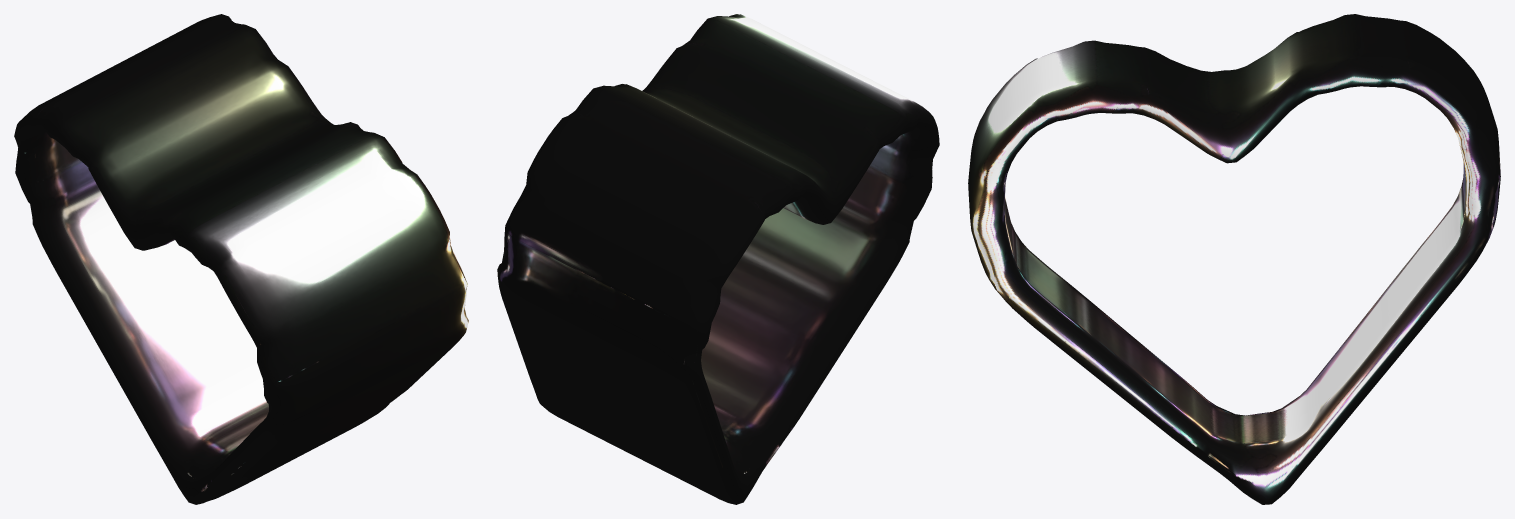
3 views of the same model, side by side, from view 1: azimuth 30°, elevation 25°; view 2: azimuth 150°, elevation 25°; view 3: azimuth 270°, elevation 25° (orthographic). The views are drawn at different scales.
Visible parts, largest first — view 1: Cube.002; view 2: Cube.002; view 3: Cube.002.
Part boxes in pixels (x1,y1,x2,y2): Cube.002: [14, 14, 468, 504]; Cube.002: [497, 14, 939, 504]; Cube.002: [968, 14, 1500, 504].
Bounding box in the file's own units: 0.836 × 1.16 × 1.24.
1 material, 1 textured.
